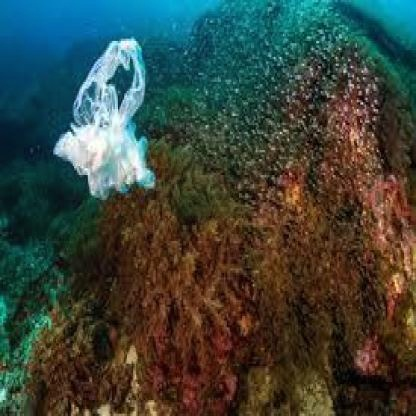pbag: (45, 34, 165, 200)
